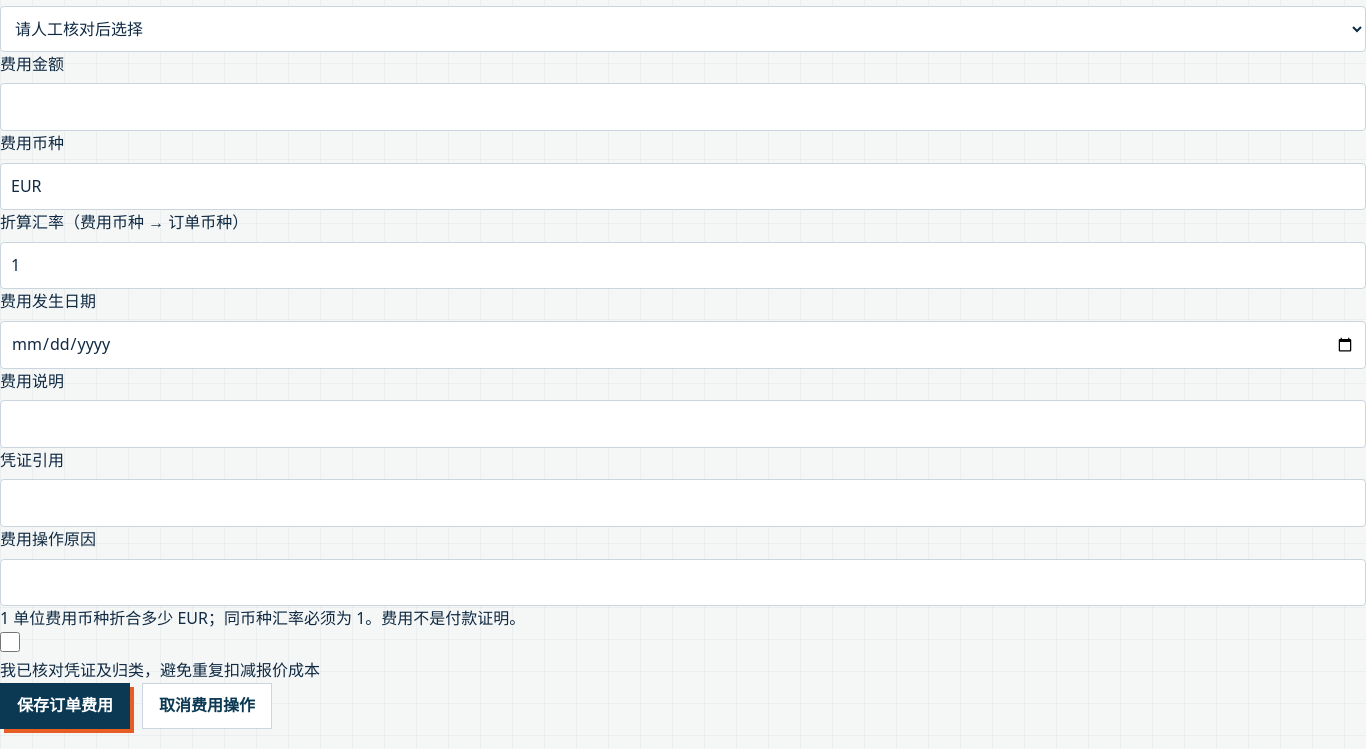
it: requires explicit cost classification and evidence before recording
(page scrolled)
Click the button "保存订单费用": (65, 706) 0,683 -> 130,729
(page scrolled)
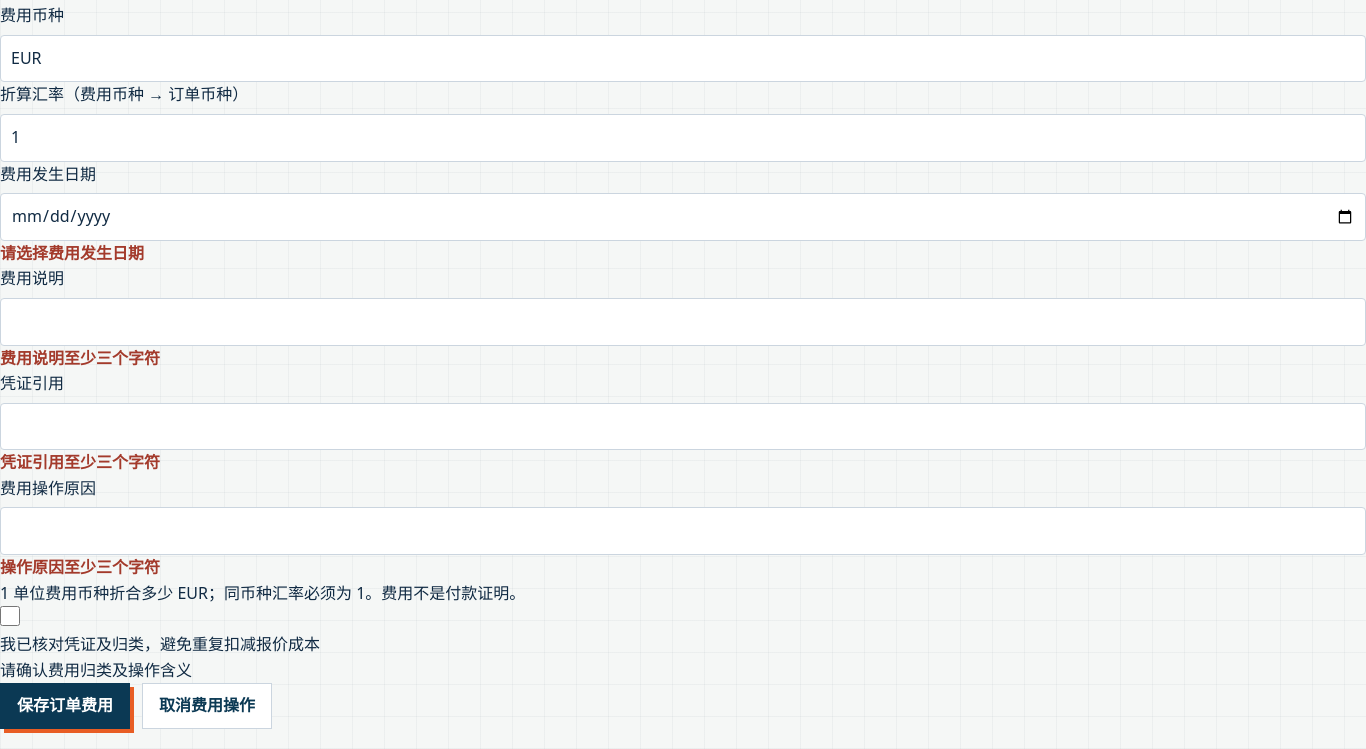
Expected: the text "凭证引用至少三个字符" is shown, 0,451 -> 160,473
Expected: the text "请确认费用归类及操作含义" is shown, 0,659 -> 192,681
